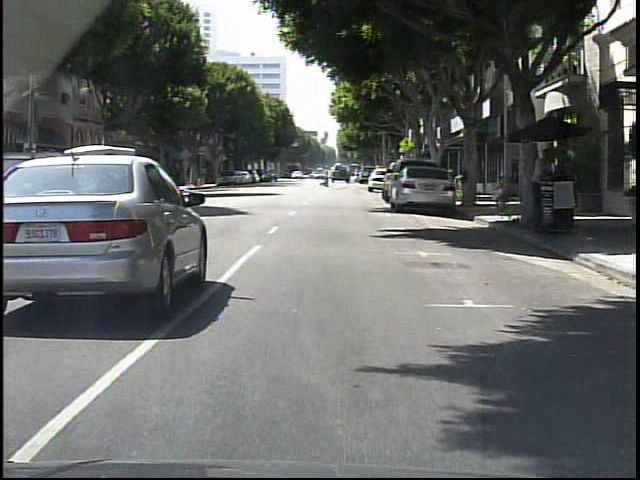person: (529, 146, 561, 229), (320, 168, 331, 188)
